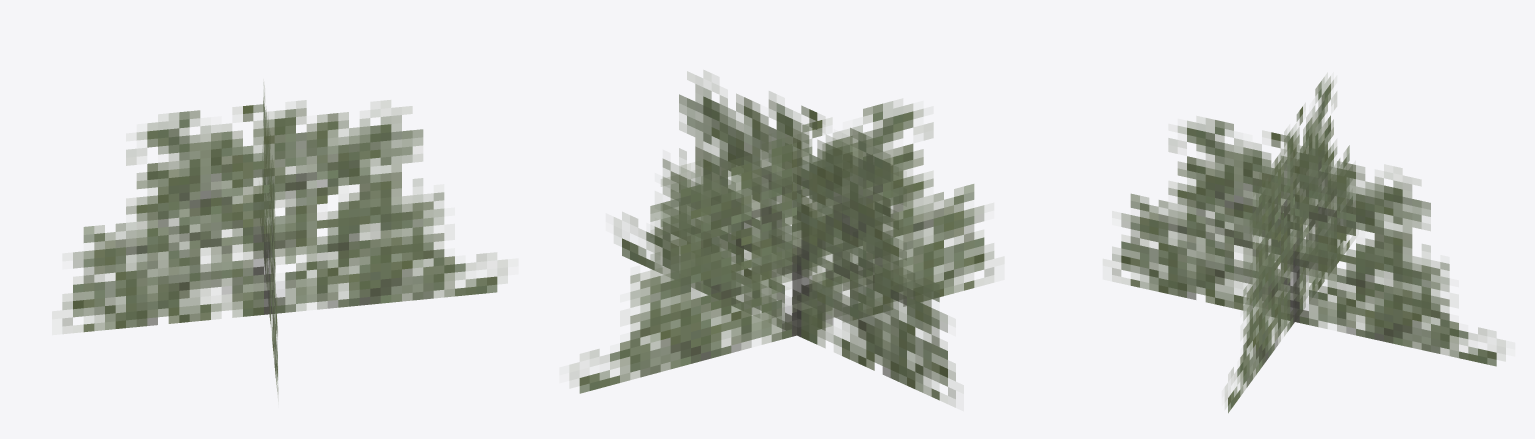
The model's file is tree-shrub.009_lev3.glb.
3 renders of one model, left to right at view 1: azimuth 30°, elevation 25°; view 2: azimuth 150°, elevation 25°; view 3: azimuth 270°, elevation 25°, orthographic. The views are drawn at different scales.
Parts seen in each view (by area): view 1: tree-shrub.009_lev3; view 2: tree-shrub.009_lev3; view 3: tree-shrub.009_lev3.
Boxes of the visible parts, x1,y1,x2,y2 form: tree-shrub.009_lev3: (62, 85, 507, 393); tree-shrub.009_lev3: (569, 70, 994, 406); tree-shrub.009_lev3: (1112, 73, 1505, 413).
Bounding box in the file's own units: 6.7 × 3.11 × 6.22.
Materials: 1 (1 with a texture image).
